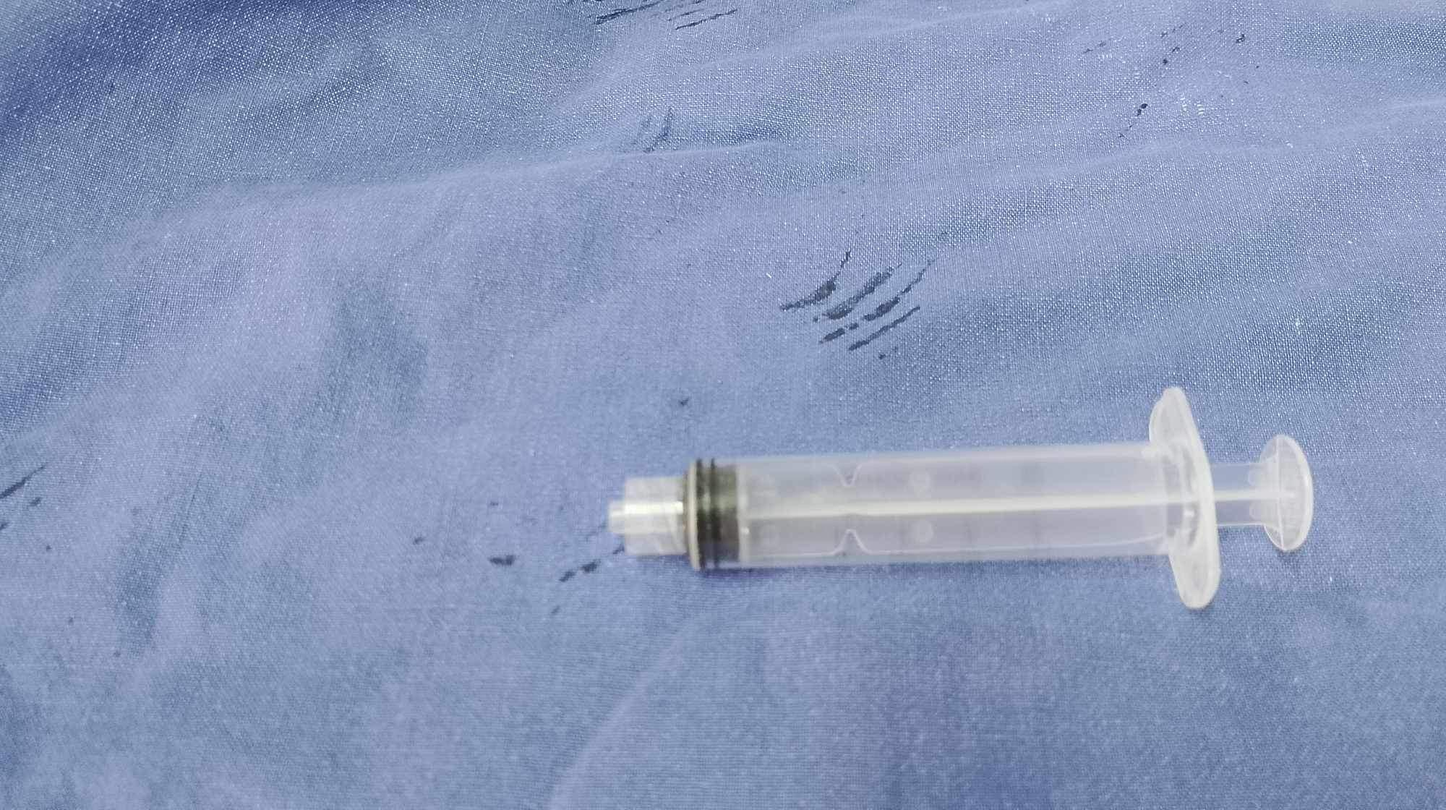Sharps: (606, 385, 1315, 610)
